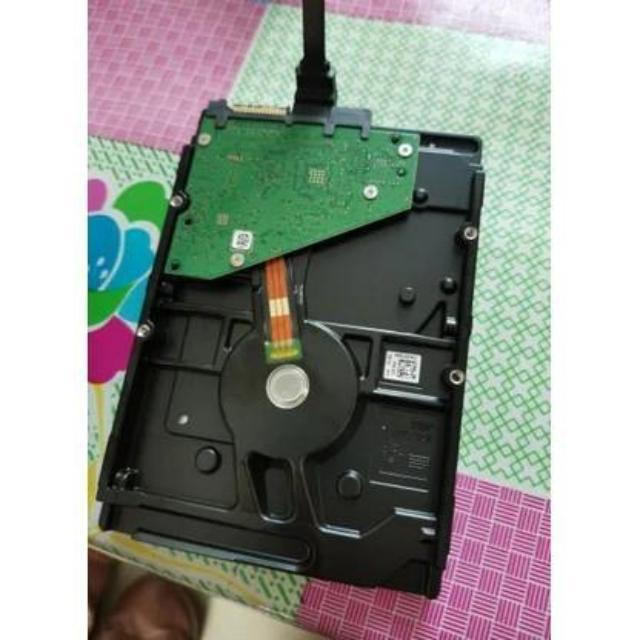DISK: (88, 84, 497, 607)
